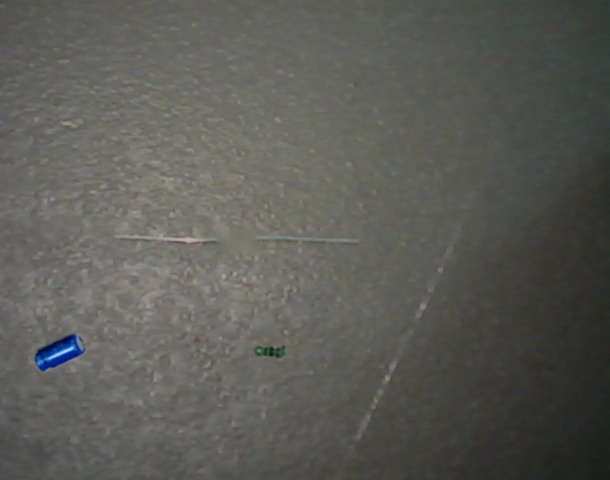capacitor: (34, 334, 86, 372)
resistor: (254, 345, 287, 359)
